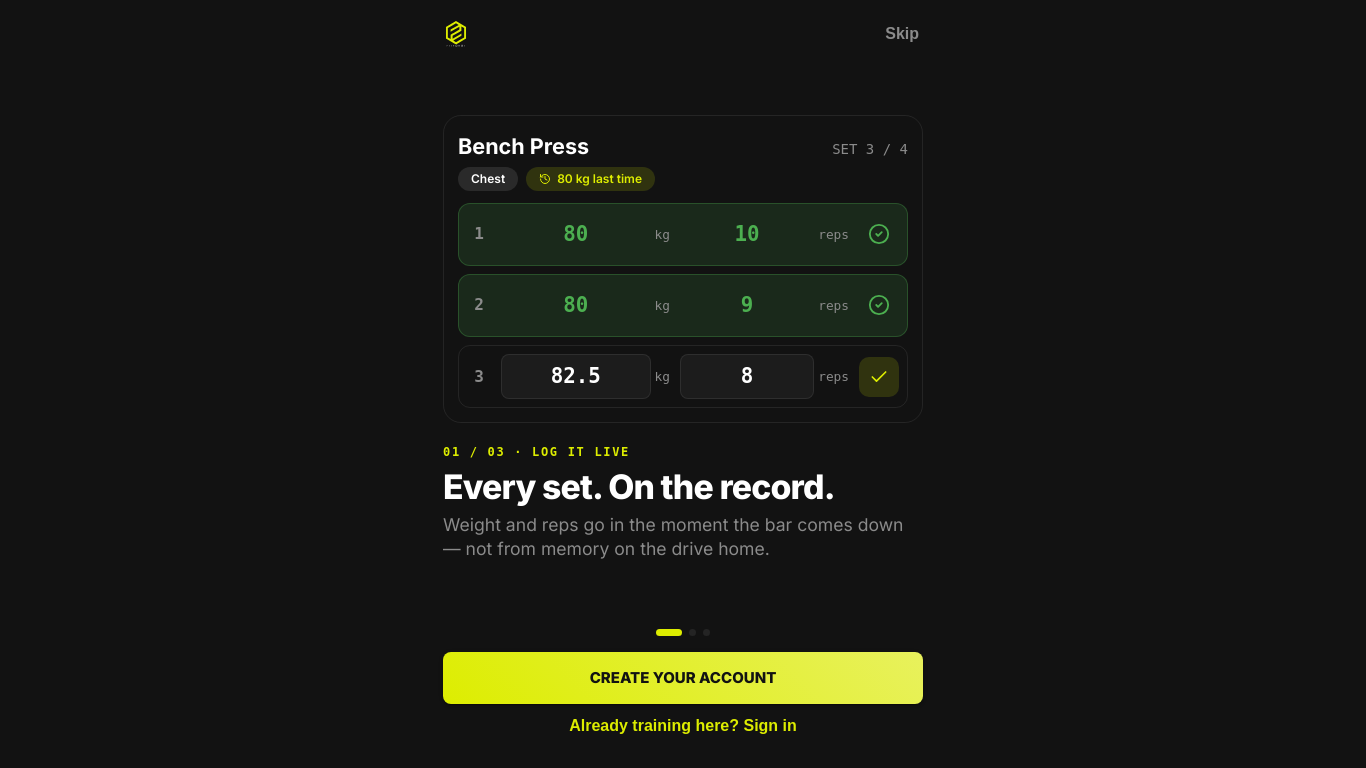
Test: Back arrow › returns to the carousel when sign up was opened from it
Click the button "Create your account" at (683, 678), box [443,652,923,704]
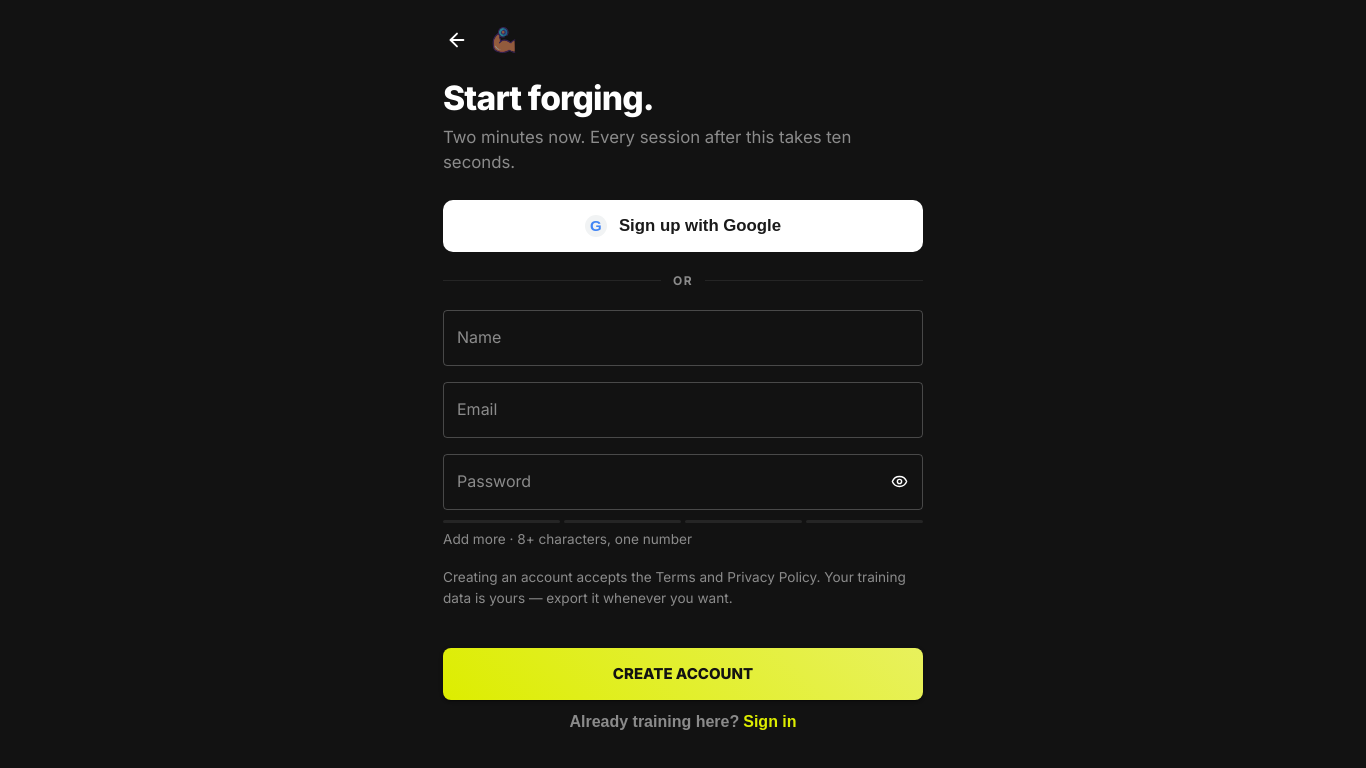
Click the button named "Back" at (457, 40), box [435,18,479,62]
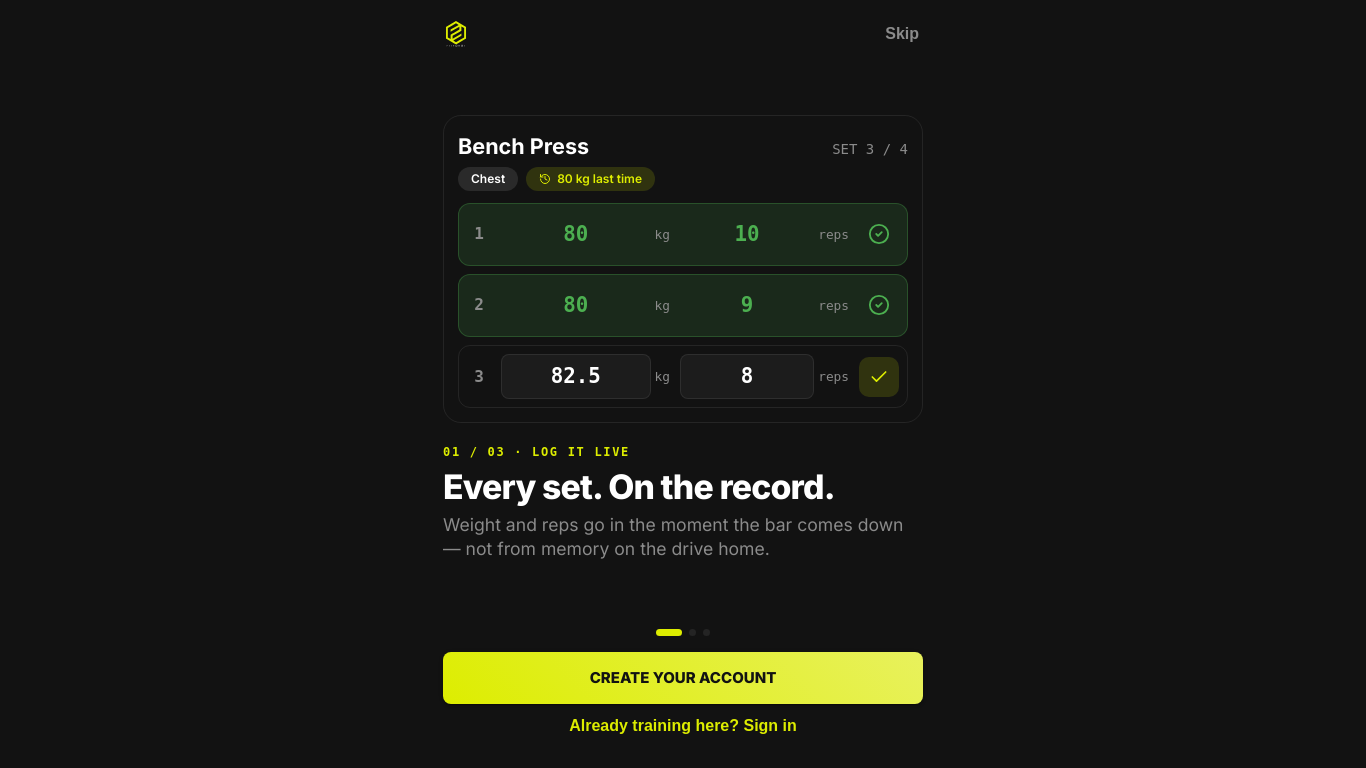
expect the heading "Every set. On the record." is shown: met, box [443,466,835,507]
